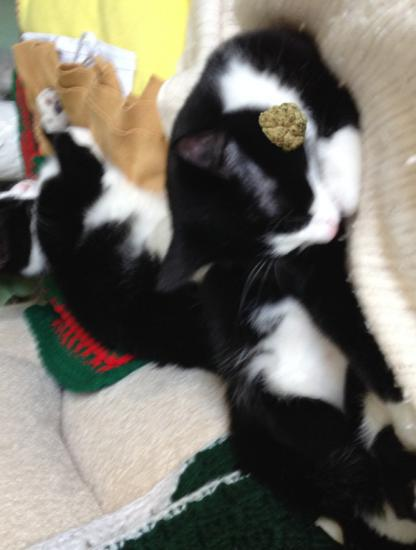Cauliflower: (259, 99, 313, 153)
